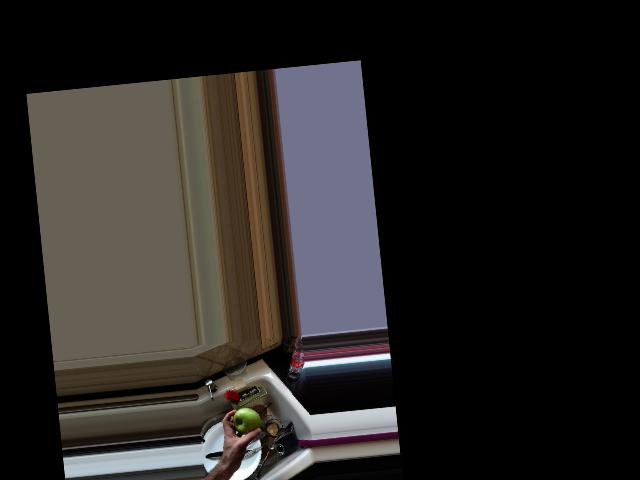apple: (229, 405, 263, 438)
